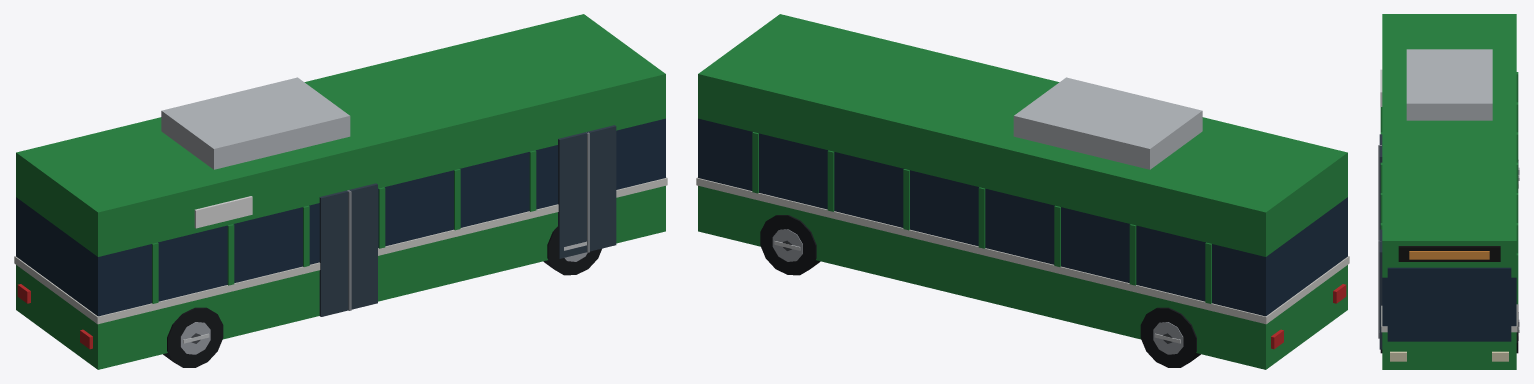
Rendered from bus.glb.
3 renders of one model, left to right at view 1: azimuth 30°, elevation 25°; view 2: azimuth 150°, elevation 25°; view 3: azimuth 270°, elevation 25°, orthographic. The views are drawn at different scales.
Visible parts, largest first — view 1: gh_bus__body, gh_bus__wheel2, gh_bus__wheel0; view 2: gh_bus__body, gh_bus__wheel1, gh_bus__wheel3; view 3: gh_bus__body, gh_bus__wheel1.
Boxes of the visible parts, x1,y1,x2,y2 form: gh_bus__body: (14,14,667,369); gh_bus__wheel2: (163,307,223,367); gh_bus__wheel0: (543,226,601,275); gh_bus__body: (696,14,1349,369); gh_bus__wheel1: (760,215,820,275); gh_bus__wheel3: (1140,307,1200,367); gh_bus__body: (1378,14,1518,369); gh_bus__wheel1: (1516,304,1519,353).
Size of the model in its own units: 10.17 by 3.35 by 2.63.
